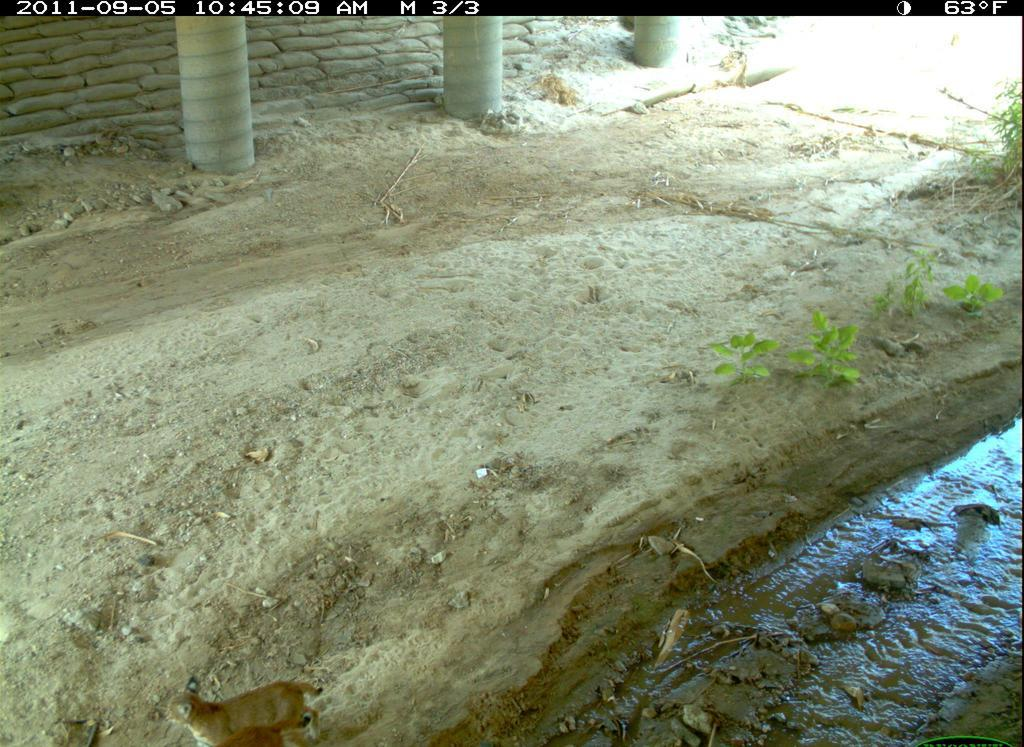bobcat: (161, 674, 326, 747), (210, 711, 321, 747)
